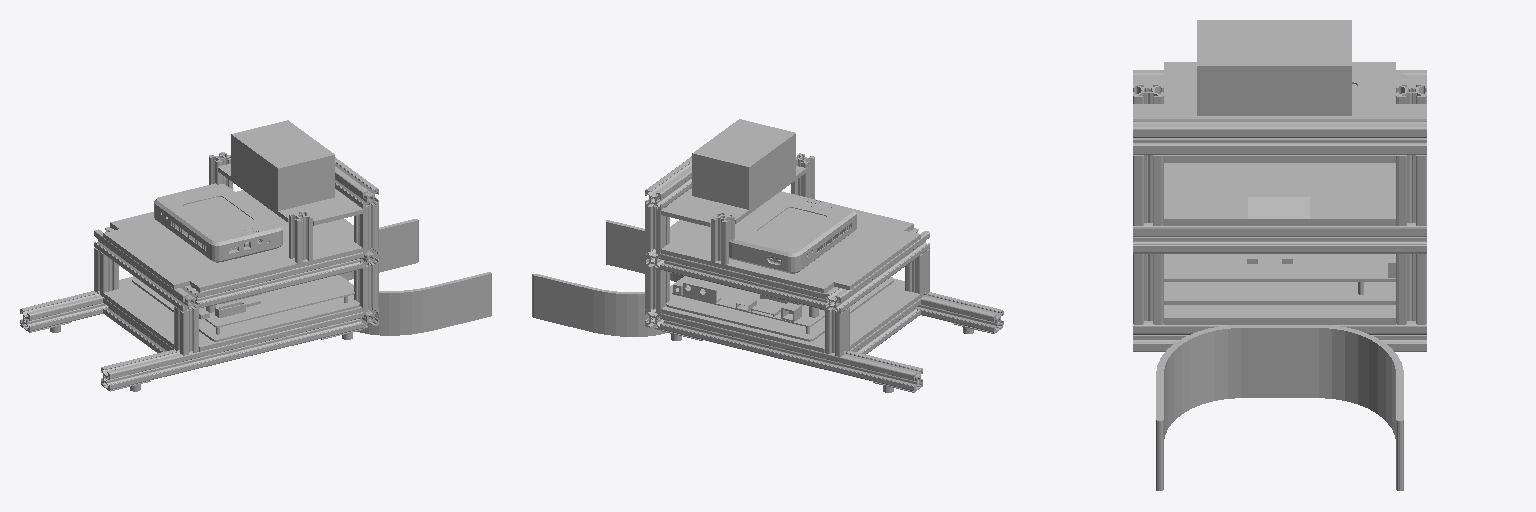
URDF robot description (model20):
<?xml version="1.0" encoding="utf-8"?>
<!-- This URDF was automatically created by SolidWorks to URDF Exporter! Originally created by [author] ([email redacted]) 
     Commit Version: 1.5.1-0-g916b5db  Build Version: 1.5.7152.31018
     For more information, please see http://wiki.ros.org/sw_urdf_exporter -->
<robot
  name="model20">
  <link
    name="base_link">
    <inertial>
      <origin
        xyz="-0.092833848330563 0.0774406058847294 0.0426424242481935"
        rpy="0 0 0" />
      <mass
        value="3.21829386296279" />
      <inertia
        ixx="0.00580151653868739"
        ixy="1.9364341074558E-06"
        ixz="6.92633511445308E-07"
        iyy="0.00721990996747051"
        iyz="3.86677335720294E-07"
        izz="0.0125117312153311" />
    </inertial>
    <visual>
      <origin
        xyz="0 0 0"
        rpy="0 0 0" />
      <geometry>
        <mesh
          filename="package://model20/meshes/base_link.STL" />
      </geometry>
      <material
        name="">
        <color
          rgba="0.752941176470588 0.752941176470588 0.752941176470588 1" />
      </material>
    </visual>
    <collision>
      <origin
        xyz="0 0 0"
        rpy="0 0 0" />
      <geometry>
        <mesh
          filename="package://model20/meshes/base_link.STL" />
      </geometry>
    </collision>
  </link>
  <link
    name="left_front_wheel_suspension">
    <inertial>
      <origin
        xyz="-0.00786753377996494 -0.0155948984609842 0.0232556468762561"
        rpy="0 0 0" />
      <mass
        value="0.0651133753252895" />
      <inertia
        ixx="1.48802654908116E-05"
        ixy="1.64845451975805E-08"
        ixz="-1.56420031463122E-07"
        iyy="1.75245555055195E-05"
        iyz="-2.96403540336111E-09"
        izz="8.01010024686586E-06" />
    </inertial>
    <visual>
      <origin
        xyz="0 0 0"
        rpy="0 0 0" />
      <geometry>
        <mesh
          filename="package://model20/meshes/left_front_wheel_suspension.STL" />
      </geometry>
      <material
        name="">
        <color
          rgba="0.752941176470588 0.752941176470588 0.752941176470588 1" />
      </material>
    </visual>
    <collision>
      <origin
        xyz="0 0 0"
        rpy="0 0 0" />
      <geometry>
        <mesh
          filename="package://model20/meshes/left_front_wheel_suspension.STL" />
      </geometry>
    </collision>
  </link>
  <joint
    name="left_front_wheel_suspension_joint"
    type="prismatic">
    <origin
      xyz="-0.019998715602551 0.155491237481961 -0.0309978167969167"
      rpy="1.5707963267949 0 -1.5707963267949" />
    <parent
      link="base_link" />
    <child
      link="left_front_wheel_suspension" />
    <axis
      xyz="0 1 0" />
    <limit
      lower="0"
      upper="0"
      effort="0"
      velocity="0" />
  </joint>
  <link
    name="left_front_wheel">
    <inertial>
      <origin
        xyz="0.0158399891826273 -4.59981459866032E-09 7.99690621500204E-08"
        rpy="0 0 0" />
      <mass
        value="0.22822169800504" />
      <inertia
        ixx="0.000789211576324214"
        ixy="-1.09995507949593E-10"
        ixz="1.91230261060067E-09"
        iyy="0.000410429434291453"
        iyz="-5.55677330321344E-16"
        izz="0.000410429434301075" />
    </inertial>
    <visual>
      <origin
        xyz="0 0 0"
        rpy="0 0 0" />
      <geometry>
        <mesh
          filename="package://model20/meshes/left_front_wheel.STL" />
      </geometry>
      <material
        name="">
        <color
          rgba="1 1 1 1" />
      </material>
    </visual>
    <collision>
      <origin
        xyz="0 0 0"
        rpy="0 0 0" />
      <geometry>
        <mesh
          filename="package://model20/meshes/left_front_wheel.STL" />
      </geometry>
    </collision>
  </link>
  <joint
    name="left_front_wheel_joint"
    type="continuous">
    <origin
      xyz="-0.0197601403859578 -0.0217865728752538 0.00999990007507129"
      rpy="3.08413603591628 0 3.14159265358979" />
    <parent
      link="left_front_wheel_suspension" />
    <child
      link="left_front_wheel" />
    <axis
      xyz="0.999999999987214 0 0" />
    <limit
      effort="3.1"
      velocity="7" />
  </joint>
  <link
    name="right_front_wheel_suspension">
    <inertial>
      <origin
        xyz="-0.00415434378457435 -0.0156302499401892 0.0232556866612721"
        rpy="0 0 0" />
      <mass
        value="0.0651133753251555" />
      <inertia
        ixx="1.48802639086072E-05"
        ixy="1.648453020563E-08"
        ixz="1.56454773175217E-07"
        iyy="1.75245555054544E-05"
        iyz="2.96411876510215E-09"
        izz="8.01010182899685E-06" />
    </inertial>
    <visual>
      <origin
        xyz="0 0 0"
        rpy="0 0 0" />
      <geometry>
        <mesh
          filename="package://model20/meshes/right_front_wheel_suspension.STL" />
      </geometry>
      <material
        name="">
        <color
          rgba="0.752941176470588 0.752941176470588 0.752941176470588 1" />
      </material>
    </visual>
    <collision>
      <origin
        xyz="0 0 0"
        rpy="0 0 0" />
      <geometry>
        <mesh
          filename="package://model20/meshes/right_front_wheel_suspension.STL" />
      </geometry>
    </collision>
  </link>
  <joint
    name="right_front_wheel_suspension_joint"
    type="prismatic">
    <origin
      xyz="-0.019998685205965 -0.0145086967784139 -0.0309978167969166"
      rpy="1.5707963267949 0 -1.5707963267949" />
    <parent
      link="base_link" />
    <child
      link="right_front_wheel_suspension" />
    <axis
      xyz="0 1 0" />
    <limit
      lower="0"
      upper="0"
      effort="0"
      velocity="0" />
  </joint>
  <link
    name="right_front_wheel">
    <inertial>
      <origin
        xyz="0.015839199018542 1.11022302462516E-16 0"
        rpy="0 0 0" />
      <mass
        value="0.22822169800504" />
      <inertia
        ixx="0.000789211576333899"
        ixy="-3.39114589672057E-20"
        ixz="5.36354242059181E-21"
        iyy="0.000410429434291421"
        iyz="-3.3881317890172E-19"
        izz="0.000410429434291419" />
    </inertial>
    <visual>
      <origin
        xyz="0 0 0"
        rpy="0 0 0" />
      <geometry>
        <mesh
          filename="package://model20/meshes/right_front_wheel.STL" />
      </geometry>
      <material
        name="">
        <color
          rgba="1 1 1 1" />
      </material>
    </visual>
    <collision>
      <origin
        xyz="0 0 0"
        rpy="0 0 0" />
      <geometry>
        <mesh
          filename="package://model20/meshes/right_front_wheel.STL" />
      </geometry>
    </collision>
  </link>
  <joint
    name="right_front_wheel_joint"
    type="continuous">
    <origin
      xyz="0.00773912001850283 -0.0217849999999998 0.0100000000000001"
      rpy="0.162600051915931 0 0" />
    <parent
      link="right_front_wheel_suspension" />
    <child
      link="right_front_wheel" />
    <axis
      xyz="1 0 0" />
    <limit
      effort="3.1"
      velocity="7" />
  </joint>
  <link
    name="camera">
    <inertial>
      <origin
        xyz="0.00574434029795978 -0.000740342879783772 -0.0662231976935658"
        rpy="0 0 0" />
      <mass
        value="0.0436119957238953" />
      <inertia
        ixx="2.34834564028883E-05"
        ixy="-1.21278036982022E-09"
        ixz="-3.47379224009179E-07"
        iyy="4.2947905005604E-06"
        iyz="-5.91274656944023E-10"
        izz="2.2193065138918E-05" />
    </inertial>
    <visual>
      <origin
        xyz="0 0 0"
        rpy="0 0 0" />
      <geometry>
        <mesh
          filename="package://model20/meshes/camera.STL" />
      </geometry>
      <material
        name="">
        <color
          rgba="0.792156862745098 0.819607843137255 0.933333333333333 1" />
      </material>
    </visual>
    <collision>
      <origin
        xyz="0 0 0"
        rpy="0 0 0" />
      <geometry>
        <mesh
          filename="package://model20/meshes/camera.STL" />
      </geometry>
    </collision>
  </link>
  <joint
    name="camera"
    type="fixed">
    <origin
      xyz="-0.0134999999999999 0.0764920649895213 0.154987708684933"
      rpy="0 0 0" />
    <parent
      link="base_link" />
    <child
      link="camera" />
    <axis
      xyz="0 0 0" />
  </joint>
  <link
    name="camera2">
    <inertial>
      <origin
        xyz="-0.0221485658915229 0.000718215963980057 0.0651474645619419"
        rpy="0 0 0" />
      <mass
        value="0.0436119950287125" />
      <inertia
        ixx="2.34616976848218E-05"
        ixy="-7.5418513253527E-10"
        ixz="3.85065873476792E-07"
        iyy="4.29479133591139E-06"
        iyz="-1.11912173840941E-09"
        izz="2.22148222430625E-05" />
    </inertial>
    <visual>
      <origin
        xyz="0 0 0"
        rpy="0 0 0" />
      <geometry>
        <mesh
          filename="package://model20/meshes/camera2.STL" />
      </geometry>
      <material
        name="">
        <color
          rgba="0.792156862745098 0.819607843137255 0.933333333333333 1" />
      </material>
    </visual>
    <collision>
      <origin
        xyz="0 0 0"
        rpy="0 0 0" />
      <geometry>
        <mesh
          filename="package://model20/meshes/camera2.STL" />
      </geometry>
    </collision>
  </link>
  <joint
    name="camera2"
    type="fixed">
    <origin
      xyz="-0.00852200766865335 0.0757627858576307 0.0876258392043087"
      rpy="0 0.261799387799143 0" />
    <parent
      link="base_link" />
    <child
      link="camera2" />
    <axis
      xyz="0 0 0" />
  </joint>
  <link
    name="lidar">
    <inertial>
      <origin
        xyz="-0.00868778989367724 -0.00242014065569161 -0.0287648859064543"
        rpy="0 0 0" />
      <mass
        value="0.0730845706123877" />
      <inertia
        ixx="1.9580875609635E-05"
        ixy="-1.03933750344927E-07"
        ixz="4.28391241039135E-07"
        iyy="2.41250086763081E-05"
        iyz="-9.42709906914289E-09"
        izz="4.1418452244397E-05" />
    </inertial>
    <visual>
      <origin
        xyz="0 0 0"
        rpy="0 0 0" />
      <geometry>
        <mesh
          filename="package://model20/meshes/lidar.STL" />
      </geometry>
      <material
        name="">
        <color
          rgba="0.792156862745098 0.819607843137255 0.933333333333333 1" />
      </material>
    </visual>
    <collision>
      <origin
        xyz="0 0 0"
        rpy="0 0 0" />
      <geometry>
        <mesh
          filename="package://model20/meshes/lidar.STL" />
      </geometry>
    </collision>
  </link>
  <joint
    name="lidar_joint"
    type="fixed">
    <origin
      xyz="-0.0642592027859291 0.0687050562666345 0.223497816796912"
      rpy="0 0 0" />
    <parent
      link="base_link" />
    <child
      link="lidar" />
    <axis
      xyz="0 0 0" />
  </joint>
  <link
    name="imu">
    <inertial>
      <origin
        xyz="0 1.38777878078145E-17 0.00250000000000002"
        rpy="0 0 0" />
      <mass
        value="0.000510000000000001" />
      <inertia
        ixx="5.31250000000002E-09"
        ixy="-7.37257477290141E-26"
        ixz="-1.57807179640438E-40"
        iyy="5.31250000000002E-09"
        iyz="-5.52943107967612E-26"
        izz="8.50000000000004E-09" />
    </inertial>
    <visual>
      <origin
        xyz="0 0 0"
        rpy="0 0 0" />
      <geometry>
        <mesh
          filename="package://model20/meshes/imu.STL" />
      </geometry>
      <material
        name="">
        <color
          rgba="1 1 1 1" />
      </material>
    </visual>
    <collision>
      <origin
        xyz="0 0 0"
        rpy="0 0 0" />
      <geometry>
        <mesh
          filename="package://model20/meshes/imu.STL" />
      </geometry>
    </collision>
  </link>
  <joint
    name="imu"
    type="fixed">
    <origin
      xyz="-0.0950000000000001 0.117752824450965 0.169997816796917"
      rpy="0 0 0" />
    <parent
      link="base_link" />
    <child
      link="imu" />
    <axis
      xyz="0 0 0" />
  </joint>
  <link
    name="left_rear_wheel_suspension">
    <inertial>
      <origin
        xyz="0 -0.005 1.11022302462516E-16"
        rpy="0 0 0" />
      <mass
        value="0.00774637194071073" />
      <inertia
        ixx="3.9707044697232E-07"
        ixy="-2.59626609761759E-23"
        ixz="1.7265241970474E-23"
        iyy="6.65034694932794E-07"
        iyz="-4.68375338513749E-24"
        izz="3.97070446972319E-07" />
    </inertial>
    <visual>
      <origin
        xyz="0 0 0"
        rpy="0 0 0" />
      <geometry>
        <mesh
          filename="package://model20/meshes/left_rear_wheel_suspension.STL" />
      </geometry>
      <material
        name="">
        <color
          rgba="0.898039215686275 0.917647058823529 0.929411764705882 1" />
      </material>
    </visual>
    <collision>
      <origin
        xyz="0 0 0"
        rpy="0 0 0" />
      <geometry>
        <mesh
          filename="package://model20/meshes/left_rear_wheel_suspension.STL" />
      </geometry>
    </collision>
  </link>
  <joint
    name="left_rear_wheel_suspension_joint"
    type="prismatic">
    <origin
      xyz="-0.293 0.1615 -0.030998"
      rpy="1.5708 0 -1.5708" />
    <parent
      link="base_link" />
    <child
      link="left_rear_wheel_suspension" />
    <axis
      xyz="0 1 0" />
    <limit
      lower="0"
      upper="0"
      effort="0"
      velocity="0" />
  </joint>
  <link
    name="left_rear_wheel">
    <inertial>
      <origin
        xyz="0 -0.0404395006329032 0"
        rpy="0 0 0" />
      <mass
        value="0.342512288692214" />
      <inertia
        ixx="0.000165711359519628"
        ixy="1.00962097199719E-21"
        ixz="6.2469123454979E-21"
        iyy="0.00011406556894596"
        iyz="3.79469691957732E-21"
        izz="0.000165711359519627" />
    </inertial>
    <visual>
      <origin
        xyz="0 0 0"
        rpy="0 0 0" />
      <geometry>
        <mesh
          filename="package://model20/meshes/left_rear_wheel.STL" />
      </geometry>
      <material
        name="">
        <color
          rgba="0.898039215686275 0.917647058823529 0.929411764705882 1" />
      </material>
    </visual>
    <collision>
      <origin
        xyz="0 0 0"
        rpy="0 0 0" />
      <geometry>
        <mesh
          filename="package://model20/meshes/left_rear_wheel.STL" />
      </geometry>
    </collision>
  </link>
  <joint
    name="left_rear_wheel_joint"
    type="fixed">
    <origin
      xyz="0 -0.019515762701871 0"
      rpy="0 0 0" />
    <parent
      link="left_rear_wheel_suspension" />
    <child
      link="left_rear_wheel" />
    <axis
      xyz="0 0 0" />
  </joint>
  <link
    name="right_rear_wheel_suspension">
    <inertial>
      <origin
        xyz="0 -0.005 -1.11022302462516E-16"
        rpy="0 0 0" />
      <mass
        value="0.00774637194071073" />
      <inertia
        ixx="3.9707044697232E-07"
        ixy="-2.59626609761758E-23"
        ixz="5.84249445698131E-24"
        iyy="6.65034694932794E-07"
        iyz="-4.68375338513719E-24"
        izz="3.97070446972319E-07" />
    </inertial>
    <visual>
      <origin
        xyz="0 0 0"
        rpy="0 0 0" />
      <geometry>
        <mesh
          filename="package://model20/meshes/right_rear_wheel_suspension.STL" />
      </geometry>
      <material
        name="">
        <color
          rgba="0.898039215686275 0.917647058823529 0.929411764705882 1" />
      </material>
    </visual>
    <collision>
      <origin
        xyz="0 0 0"
        rpy="0 0 0" />
      <geometry>
        <mesh
          filename="package://model20/meshes/right_rear_wheel_suspension.STL" />
      </geometry>
    </collision>
  </link>
  <joint
    name="right_rear_wheel_suspension_joint"
    type="prismatic">
    <origin
      xyz="-0.293 -0.0084978 -0.030998"
      rpy="1.5708 0 -1.5708" />
    <parent
      link="base_link" />
    <child
      link="right_rear_wheel_suspension" />
    <axis
      xyz="0 1 0" />
    <limit
      lower="0"
      upper="0"
      effort="0"
      velocity="0" />
  </joint>
  <link
    name="right_rear_wheel">
    <inertial>
      <origin
        xyz="0 -0.0404395006329033 0"
        rpy="0 0 0" />
      <mass
        value="0.342512288692214" />
      <inertia
        ixx="0.000165711359519628"
        ixy="-5.89883523403532E-22"
        ixz="4.24561514707314E-21"
        iyy="0.00011406556894596"
        iyz="2.89680955317883E-21"
        izz="0.000165711359519628" />
    </inertial>
    <visual>
      <origin
        xyz="0 0 0"
        rpy="0 0 0" />
      <geometry>
        <mesh
          filename="package://model20/meshes/right_rear_wheel.STL" />
      </geometry>
      <material
        name="">
        <color
          rgba="0.898039215686275 0.917647058823529 0.929411764705882 1" />
      </material>
    </visual>
    <collision>
      <origin
        xyz="0 0 0"
        rpy="0 0 0" />
      <geometry>
        <mesh
          filename="package://model20/meshes/right_rear_wheel.STL" />
      </geometry>
    </collision>
  </link>
  <joint
    name="right_rear_wheel_joint"
    type="fixed">
    <origin
      xyz="0 -0.019515762701871 0"
      rpy="0 0 0" />
    <parent
      link="right_rear_wheel_suspension" />
    <child
      link="right_rear_wheel" />
    <axis
      xyz="0 0 0" />
  </joint>
</robot>

--- Facts derived from the render (not from the file) ---
3 views of the same robot in one strip: view 1: azimuth 30°, elevation 25°; view 2: azimuth 150°, elevation 25°; view 3: azimuth 270°, elevation 25° (orthographic).
Robot: model20 — 13 links, 12 joints (2 continuous, 4 prismatic, 6 fixed); root link base_link; default pose: every joint at zero.
Links seen in each view (by area): view 1: base_link; view 2: base_link; view 3: base_link.
Link boxes in pixels (x1,y1,x2,y2): base_link: [20, 120, 491, 391]; base_link: [532, 119, 1003, 392]; base_link: [1133, 20, 1426, 490].
Bounding box of the posed robot: 0.4775 × 0.19 × 0.22 m (x, y, z).
Meshes: 13 distinct files referenced, 1 mesh visuals loaded (1 binary STL); not drawn: 12 (reference not matched to a file when rendering).